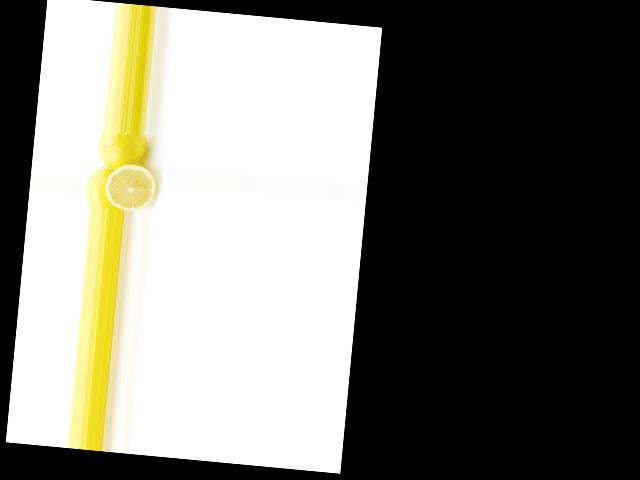lemon: (86, 159, 128, 210)
